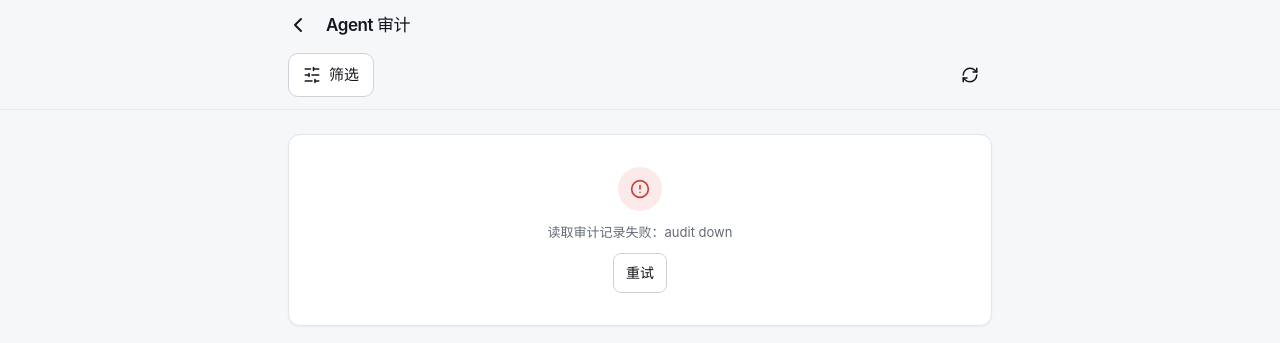
Test: Agent audit page › A2 recovers from failed audit loading with a visible retry action
Expected: the message shows "audit down", [548,224,732,240]
Step 1. Click the button "重试" → (640, 273), box [613,253,667,293]
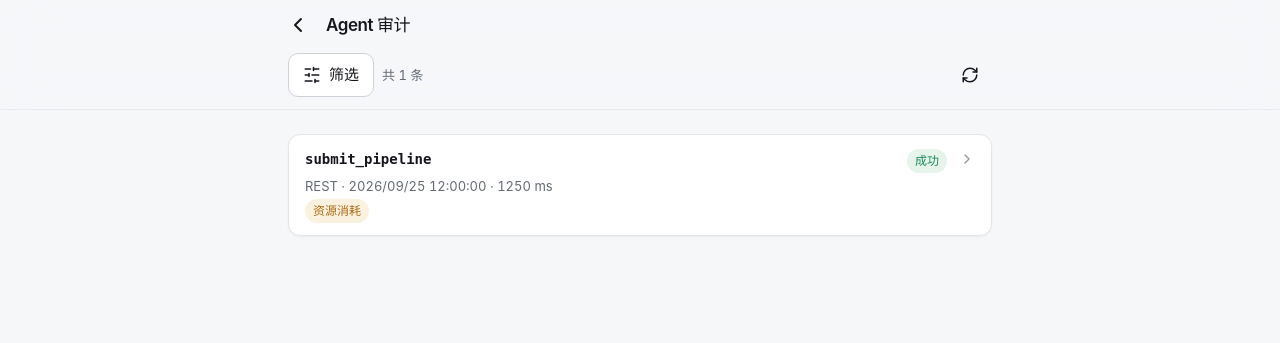
Expected: the text "submit_pipeline" is shown, [305,147,431,171]
Expected: the message "读取审计记录失败：audit down" is gone
